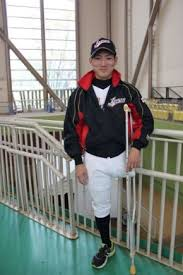crutches: (63, 38, 156, 275)
